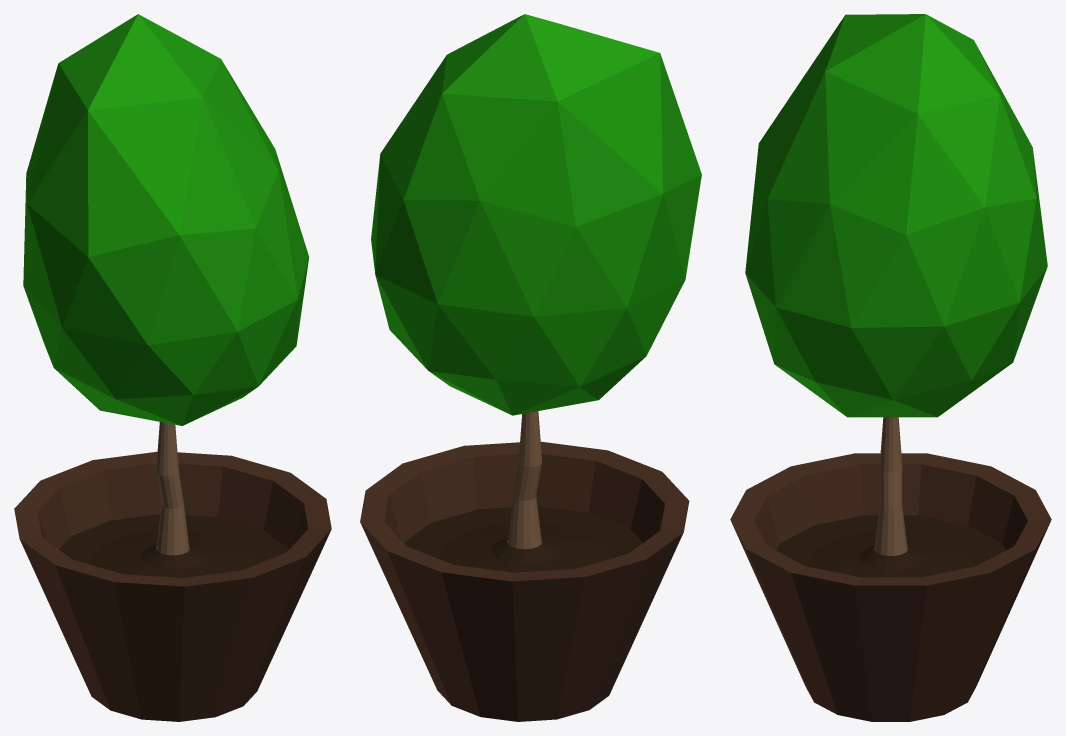
The model's file is Plant.fbx.
3 renders of one model, left to right at view 1: azimuth 30°, elevation 25°; view 2: azimuth 150°, elevation 25°; view 3: azimuth 270°, elevation 25°, orthographic. The views are drawn at different scales.
Visible parts, largest first — view 1: Plant; view 2: Plant; view 3: Plant.
Part boxes in pixels (x1,y1,x2,y2): Plant: (14,14,331,721); Plant: (360,14,701,721); Plant: (730,14,1051,721).
Bounding box in the file's own units: 1106 × 2548 × 1118.
Materials: 1 (1 with a texture image).
